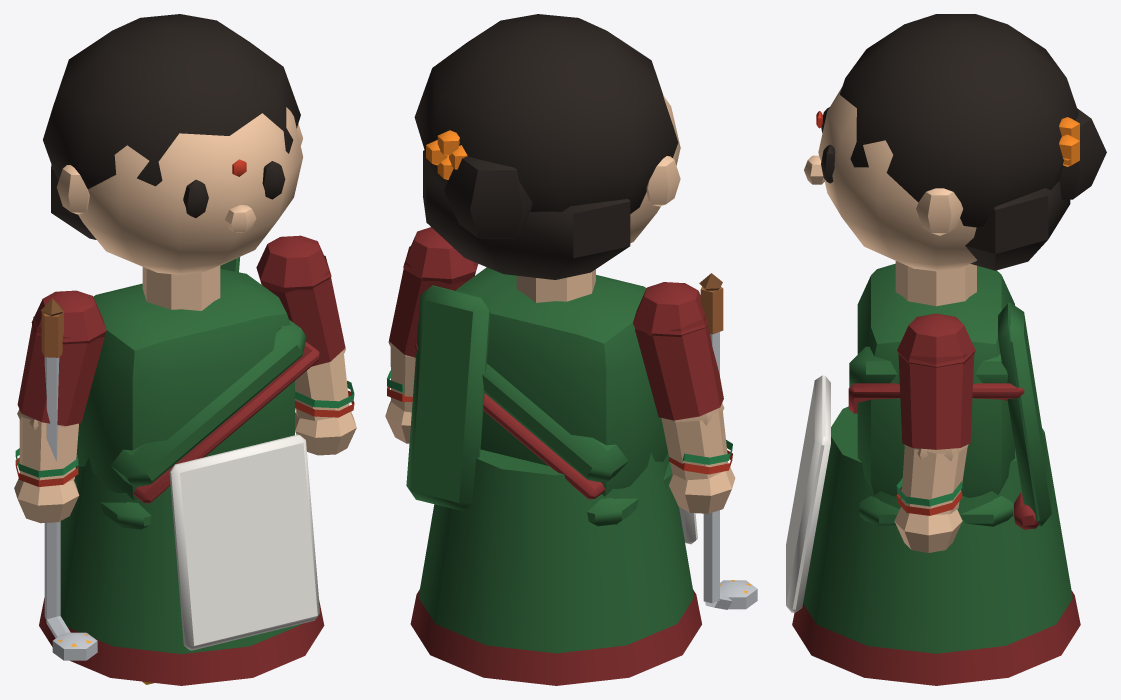
Rendered from dal_wala.glb.
The picture shows the model from 3 angles, left to right: view 1: azimuth 30°, elevation 25°; view 2: azimuth 150°, elevation 25°; view 3: azimuth 270°, elevation 25°; orthographic projection. The views are drawn at different scales.
Visible parts, largest first — view 1: body, head, arm_r, arm_l; view 2: body, head, arm_r, arm_l; view 3: body, head, arm_l.
Boxes of the visible parts, x1,y1,x2,y2 form: body: (39, 257, 324, 685); head: (43, 14, 302, 274); arm_r: (14, 290, 106, 660); arm_l: (256, 235, 356, 455); body: (406, 267, 701, 685); head: (414, 14, 680, 279); arm_r: (633, 273, 757, 609); arm_l: (385, 227, 478, 443); body: (786, 261, 1080, 685); head: (804, 14, 1106, 271); arm_l: (894, 313, 975, 552).
Bounding box in the file's own units: 0.5801 × 1.01 × 0.4746.
Materials: 1 (1 with a texture image).
